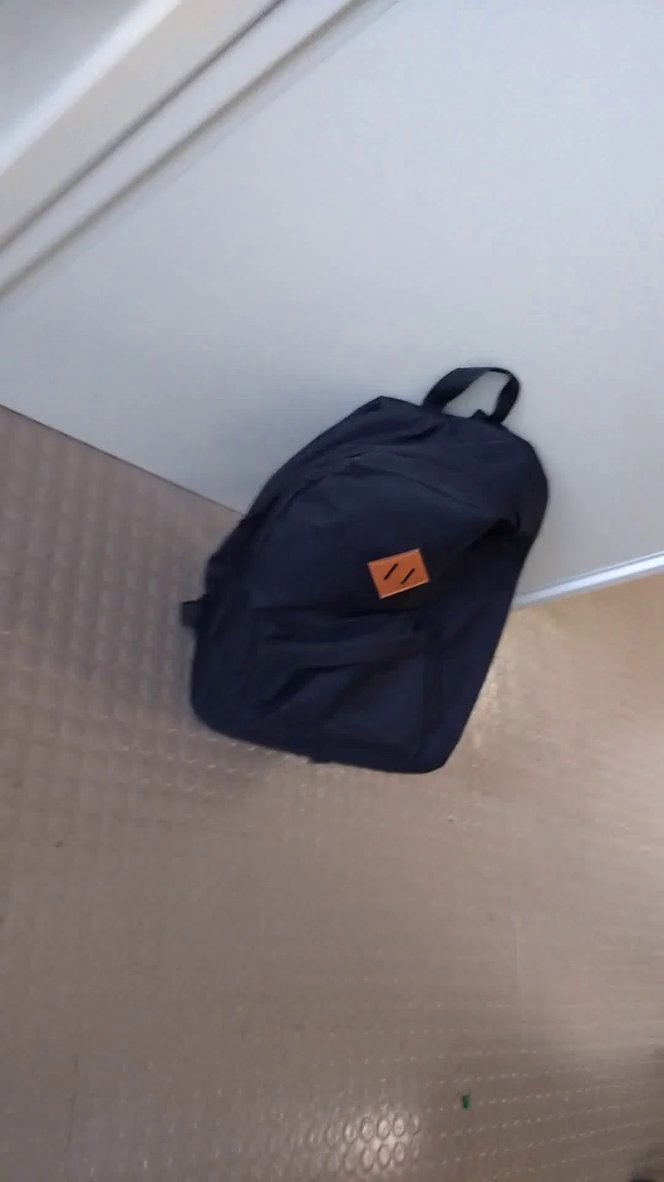bag: (154, 339, 557, 805)
